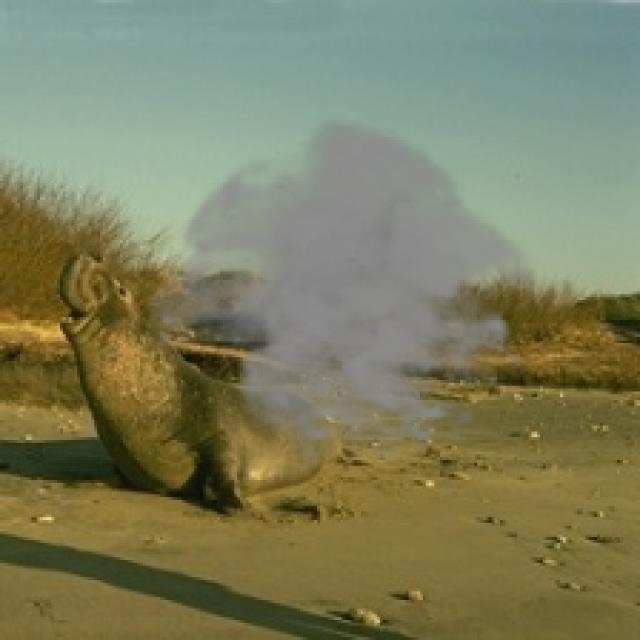Smoke: (139, 114, 552, 466)
